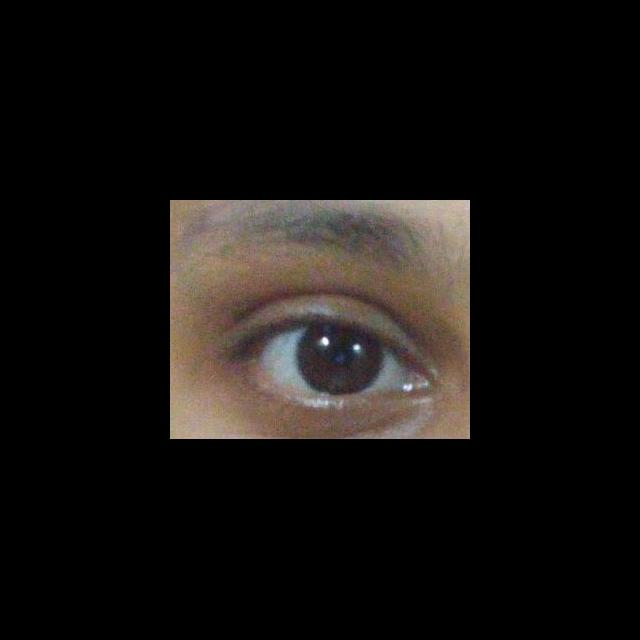eye: (262, 322, 404, 397)
iris: (297, 324, 383, 397)
